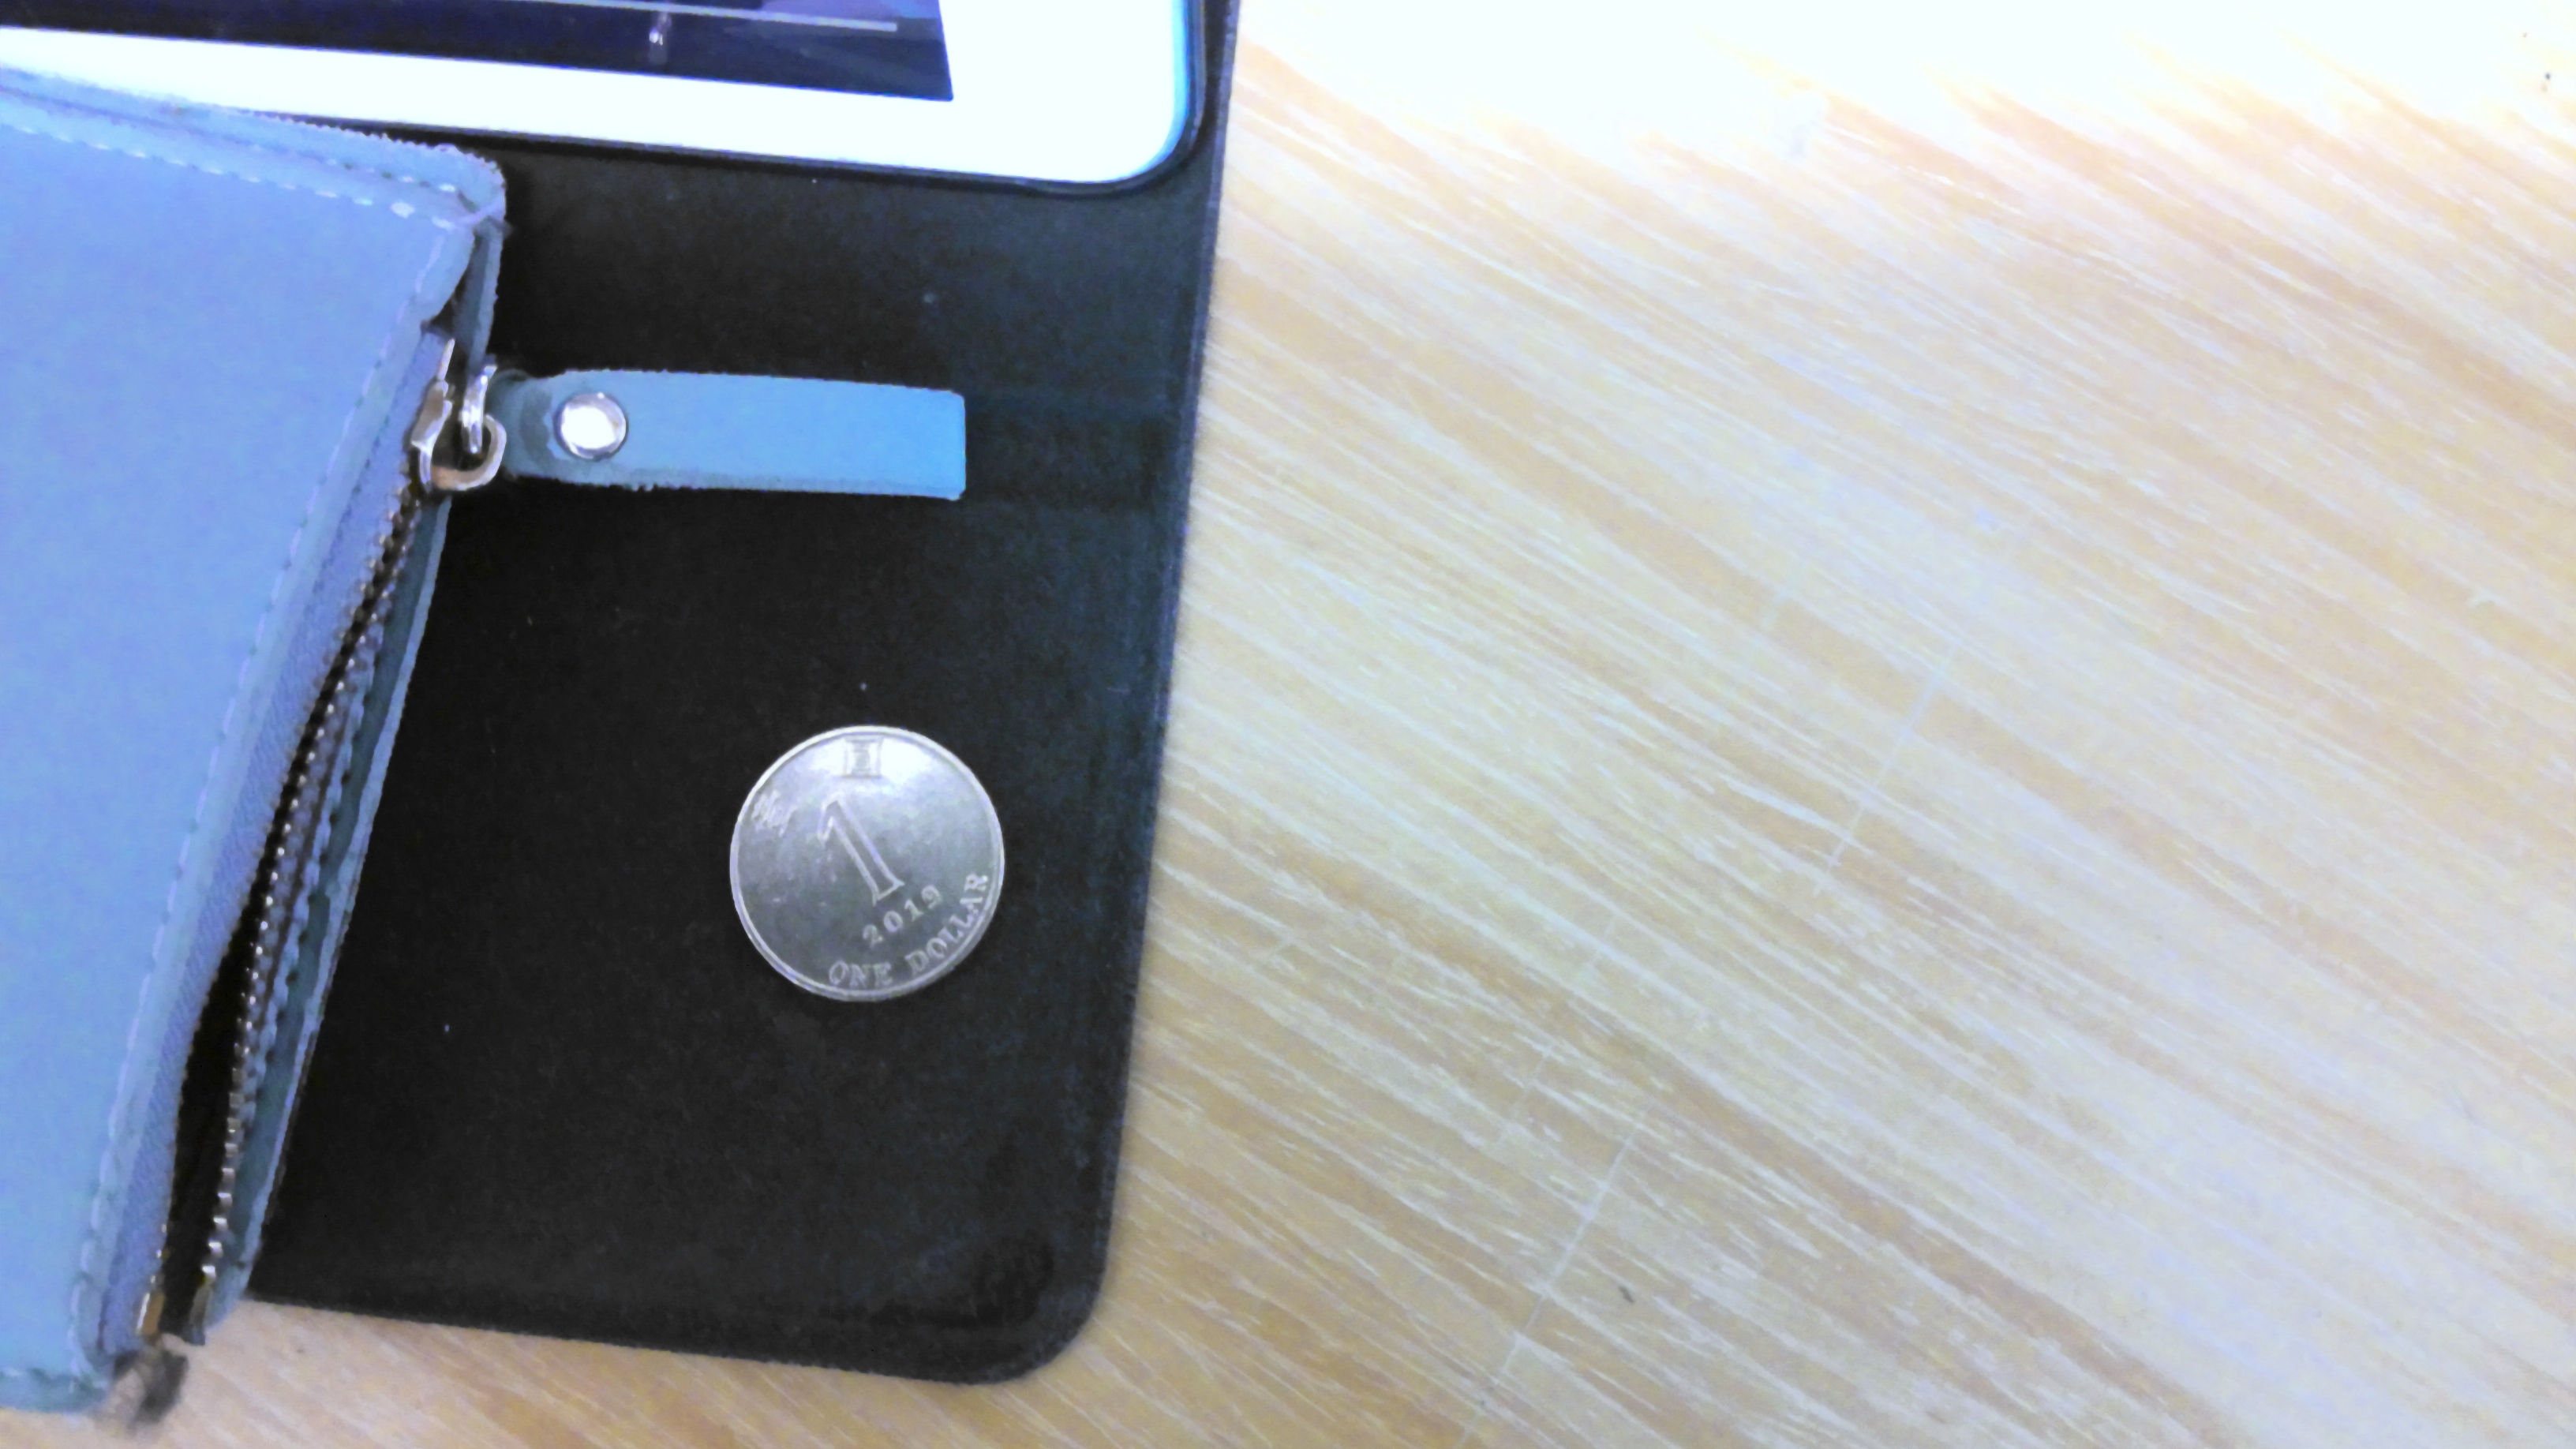one-dollar: (731, 725, 1005, 1003)
